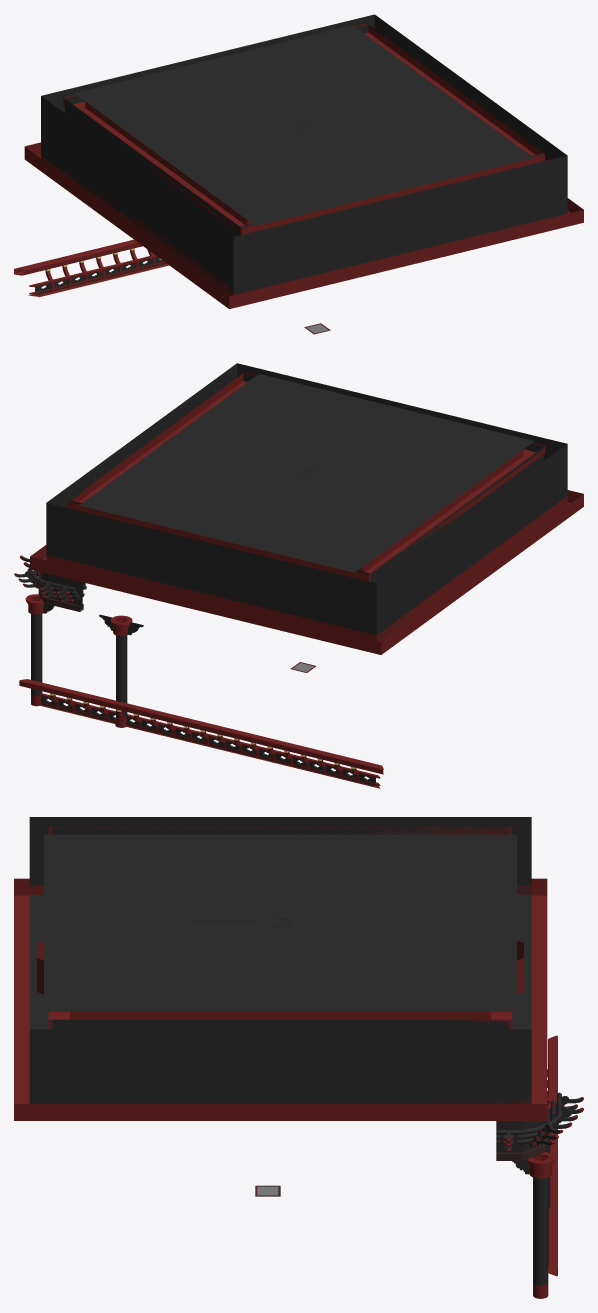
File: bossstage.fbx
The picture shows the model from 3 angles, top to bottom: view 1: azimuth 30°, elevation 25°; view 2: azimuth 150°, elevation 25°; view 3: azimuth 270°, elevation 25°; orthographic projection. The views are drawn at different scales.
Visible parts, largest first — view 1: boss_roof, bose_banistar; view 2: boss_roof, bose_banistar, Pillar, Pillar_side, roofdeco_2, roofdeco; view 3: boss_roof, roofdeco_2, Pillar_side, bose_banistar.
Boxes of the visible parts, box(x1,y1,x2,y2) form: boss_roof: box(24, 14, 583, 308); bose_banistar: box(14, 239, 168, 297); boss_roof: box(30, 363, 583, 654); bose_banistar: box(19, 679, 383, 788); Pillar: box(99, 614, 143, 727); Pillar_side: box(25, 594, 54, 706); roofdeco_2: box(14, 555, 64, 607); roofdeco: box(56, 578, 86, 611); boss_roof: box(14, 817, 547, 1120); roofdeco_2: box(496, 1103, 583, 1160); Pillar_side: box(512, 1152, 554, 1298); bose_banistar: box(547, 1035, 557, 1276).
Bounding box in the file's own units: 2283 × 1143 × 2245.
